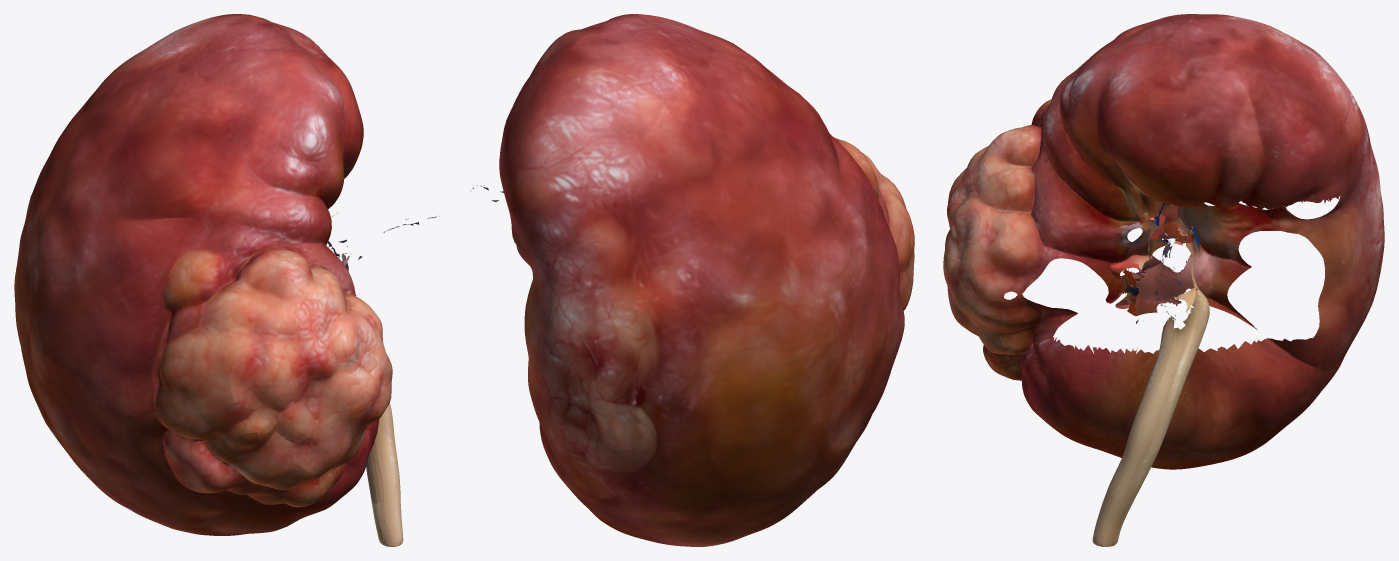
File: kidney-registered.glb
3 renders of one model, left to right at view 1: azimuth 30°, elevation 25°; view 2: azimuth 150°, elevation 25°; view 3: azimuth 270°, elevation 25°, orthographic. The views are drawn at different scales.
Parts seen in each view (by area): view 1: Lux3D_Right_Renal_body, Lux3D_Right_Renal_artery; view 2: Lux3D_Right_Renal_body, Lux3D_Right_Renal_artery; view 3: Lux3D_Right_Renal_body, Lux3D_Right_Renal_artery.
Part boxes in pixels (left/top/right/bottom): Lux3D_Right_Renal_body: left=14, top=14, right=436, bottom=546; Lux3D_Right_Renal_artery: left=323, top=239, right=392, bottom=429; Lux3D_Right_Renal_body: left=470, top=14, right=914, bottom=546; Lux3D_Right_Renal_artery: left=516, top=245, right=547, bottom=417; Lux3D_Right_Renal_body: left=943, top=14, right=1384, bottom=546; Lux3D_Right_Renal_artery: left=949, top=177, right=1371, bottom=338.
Size of the model in its own units: 0.8125 by 1 by 0.8494.
1 material, 1 textured.
